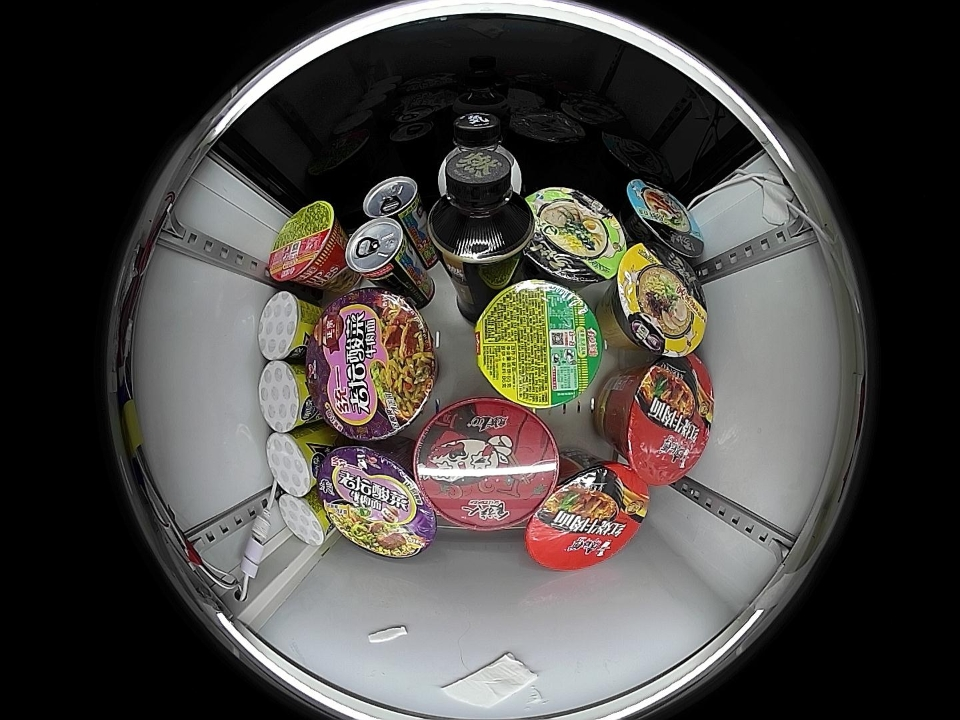heweidao2: (474, 279, 605, 410)
heweidao3: (268, 200, 344, 286)
hongshaoniurou: (611, 355, 714, 485), (526, 462, 649, 569)
kebike: (257, 289, 317, 362), (258, 360, 315, 432), (265, 429, 322, 497), (277, 491, 332, 547)
laotansuancai: (312, 288, 437, 441), (319, 444, 437, 559)
rancha-1: (428, 150, 535, 266)
suanlafen: (413, 398, 559, 530)
tangdaren: (523, 185, 626, 284)
tangdaren2: (611, 243, 708, 356)
tangdaren3: (624, 178, 704, 260)
yezhi: (345, 217, 414, 283), (362, 175, 426, 224)
yuanqishui: (442, 111, 521, 177)
